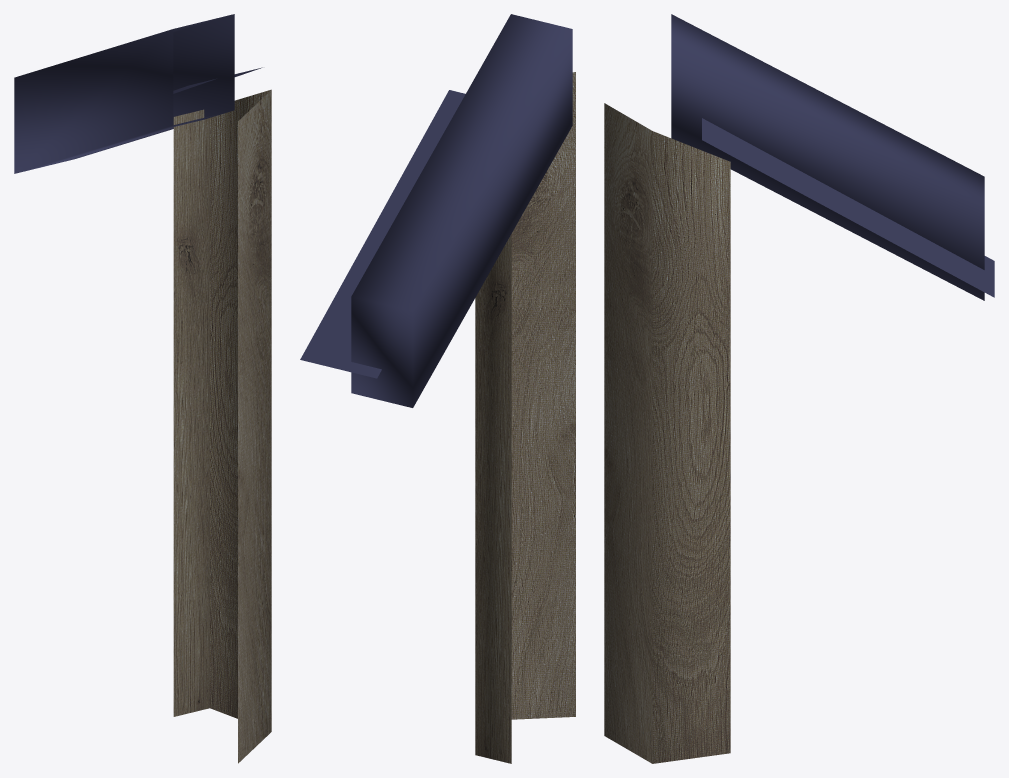
Rendered from Building_CorridorBack_4.fbx.
3 views of the same model, side by side, from view 1: azimuth 30°, elevation 25°; view 2: azimuth 150°, elevation 25°; view 3: azimuth 270°, elevation 25° (orthographic).
Parts seen in each view (by area): view 1: Cylinder.008, Cube.226; view 2: Cylinder.008, Cube.226, Plane.241; view 3: Cylinder.008, Cube.226, Plane.241.
Boxes of the visible parts, x1=… form: Cylinder.008: x1=173, y1=89, x2=271, y2=763; Cube.226: x1=14, y1=14, x2=234, y2=173; Cylinder.008: x1=475, y1=72, x2=575, y2=763; Cube.226: x1=351, y1=14, x2=572, y2=407; Plane.241: x1=300, y1=90, x2=465, y2=378; Cylinder.008: x1=604, y1=103, x2=730, y2=763; Cube.226: x1=671, y1=14, x2=984, y2=300; Plane.241: x1=702, y1=118, x2=994, y2=297.
Bounding box in the file's own units: 35 × 223 × 112.
